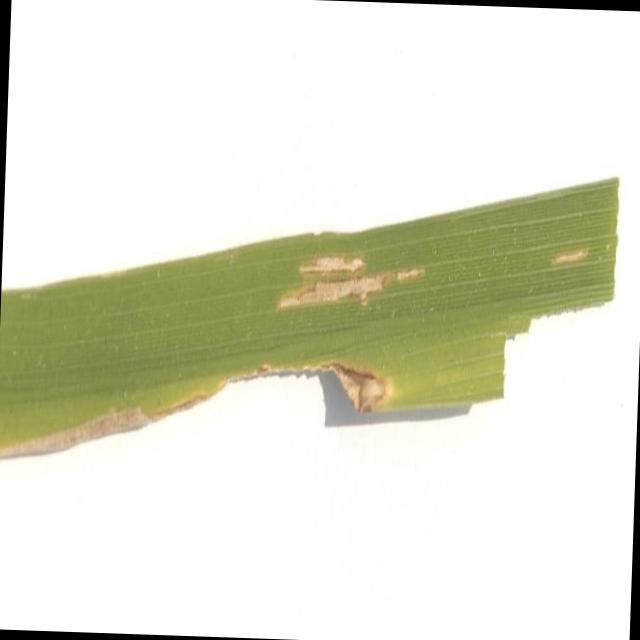Rice_Bacterial_Blight: (256, 188, 452, 318), (534, 202, 608, 282)
